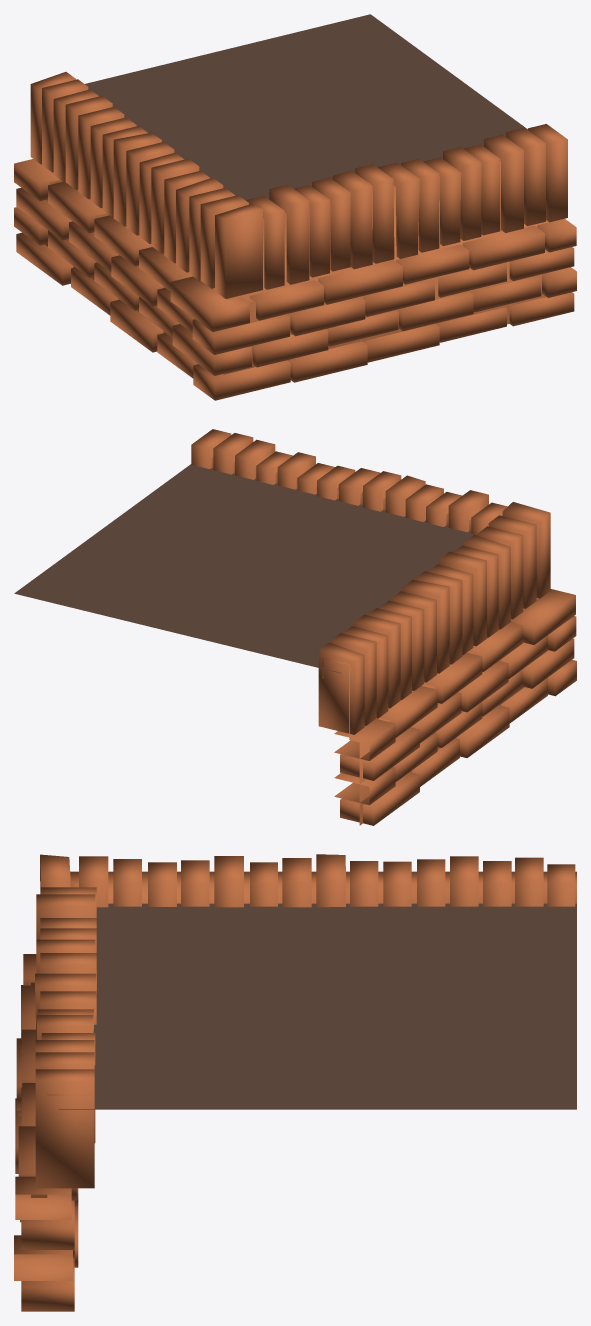
File: SM_PlantationCorner.fbx
The picture shows the model from 3 angles, top to bottom: view 1: azimuth 30°, elevation 25°; view 2: azimuth 150°, elevation 25°; view 3: azimuth 270°, elevation 25°; orthographic projection. The views are drawn at different scales.
Visible parts, largest first — view 1: SM_PlantationCorner; view 2: SM_PlantationCorner; view 3: SM_PlantationCorner.
Part boxes in pixels (<box>): SM_PlantationCorner: <box>14,14,576,400</box>; SM_PlantationCorner: <box>14,429,576,825</box>; SM_PlantationCorner: <box>14,854,576,1311</box>.
Size of the model in its own units: 106 by 48.23 by 105.
